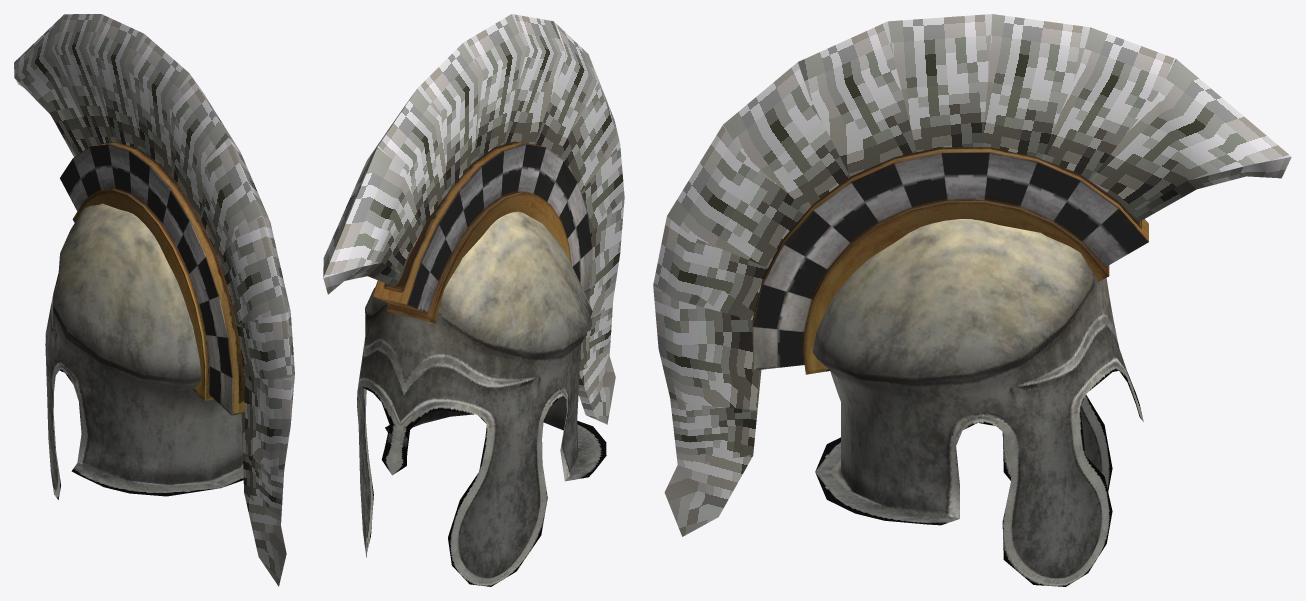
The model's file is helm_hele_chalcidean_s5.glb.
3 views of the same model, side by side, from view 1: azimuth 30°, elevation 25°; view 2: azimuth 150°, elevation 25°; view 3: azimuth 270°, elevation 25° (orthographic). The views are drawn at different scales.
Visible parts, largest first — view 1: helm_hele_chalcidean_s5_part2, helm_hele_chalcidean_s5_part0, helm_hele_chalcidean_s5_part1; view 2: helm_hele_chalcidean_s5_part0, helm_hele_chalcidean_s5_part2, helm_hele_chalcidean_s5_part1; view 3: helm_hele_chalcidean_s5_part2, helm_hele_chalcidean_s5_part0, helm_hele_chalcidean_s5_part1.
Part boxes in pixels (x1=…): helm_hele_chalcidean_s5_part2: x1=14, y1=14, x2=294, y2=586; helm_hele_chalcidean_s5_part0: x1=45, y1=203, x2=243, y2=499; helm_hele_chalcidean_s5_part1: x1=60, y1=142, x2=244, y2=415; helm_hele_chalcidean_s5_part0: x1=357, y1=211, x2=606, y2=586; helm_hele_chalcidean_s5_part2: x1=323, y1=14, x2=624, y2=424; helm_hele_chalcidean_s5_part1: x1=372, y1=141, x2=592, y2=323; helm_hele_chalcidean_s5_part2: x1=653, y1=14, x2=1291, y2=536; helm_hele_chalcidean_s5_part0: x1=813, y1=219, x2=1143, y2=586; helm_hele_chalcidean_s5_part1: x1=752, y1=147, x2=1148, y2=374.
Bounding box in the file's own units: 0.4829 × 1.14 × 1.22.
3 materials, 3 textured.
